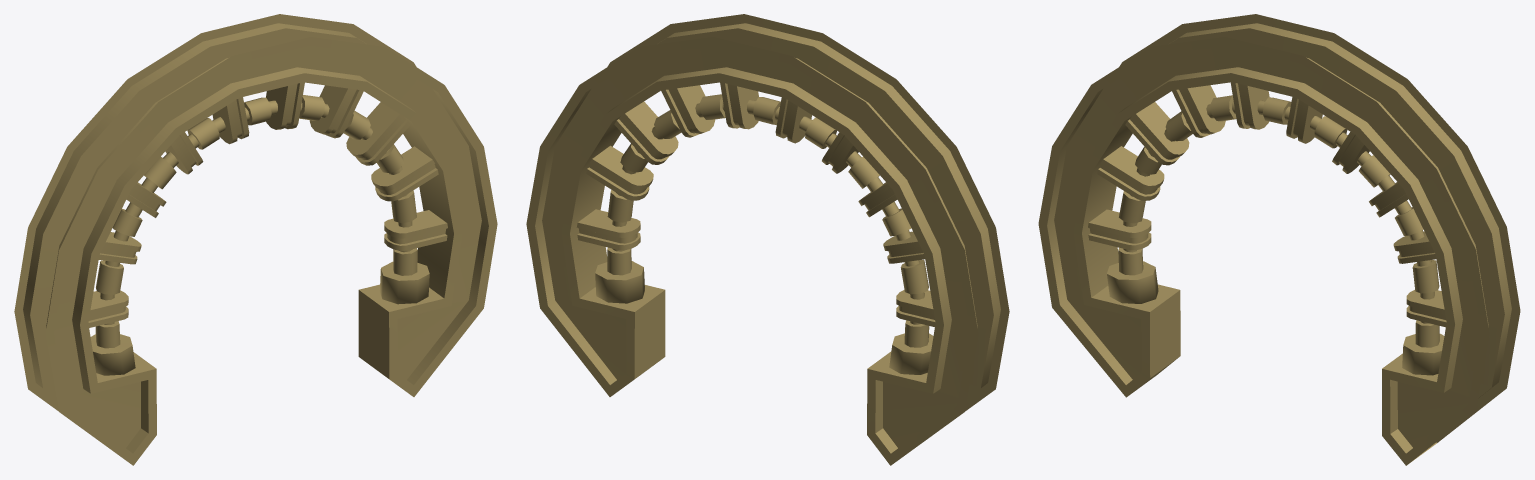
The model's file is M_TunnelArc2.FBX.
The picture shows the model from 3 angles, left to right: view 1: azimuth 30°, elevation 25°; view 2: azimuth 150°, elevation 25°; view 3: azimuth 330°, elevation 25°; orthographic projection.
Parts seen in each view (by area): view 1: tunnelarc2; view 2: tunnelarc2; view 3: tunnelarc2.
Part boxes in pixels (x1,y1,x2,y2): tunnelarc2: (14,14,497,465); tunnelarc2: (526,14,1009,465); tunnelarc2: (1038,14,1520,465).
Bounding box in the file's own units: 236 × 192 × 28.08.
